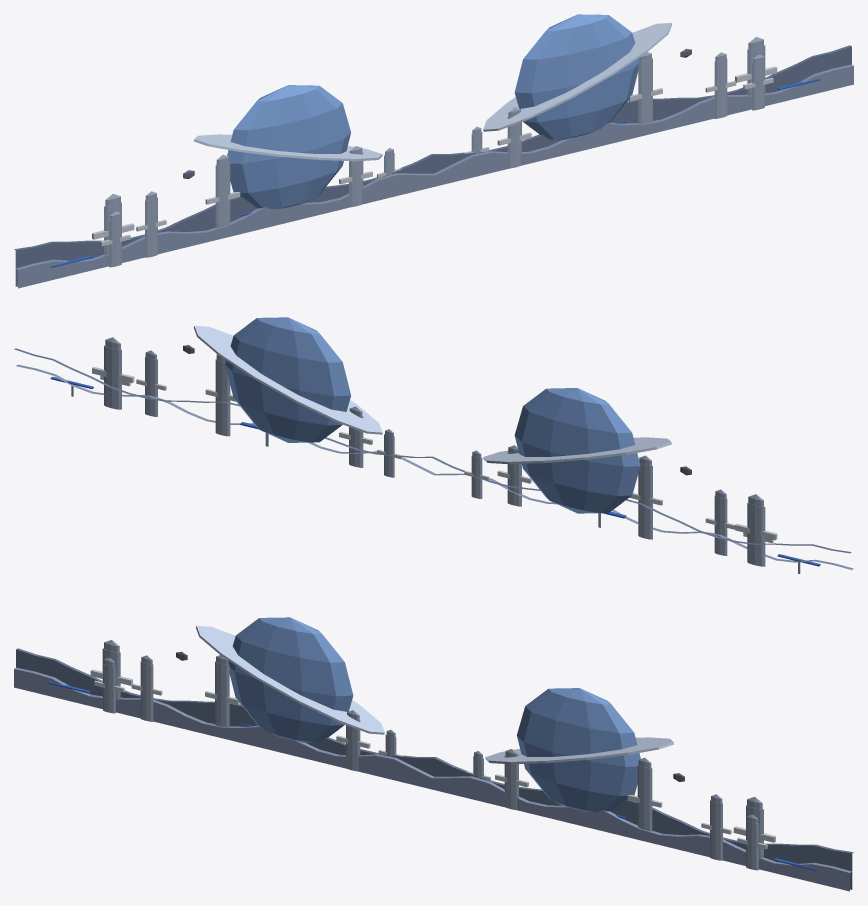
The model's file is backdrop_space.glb.
3 renders of one model, top to bottom at view 1: azimuth 30°, elevation 25°; view 2: azimuth 150°, elevation 25°; view 3: azimuth 330°, elevation 25°, orthographic.
Parts seen in each view (by area): view 1: backdrop_space; view 2: backdrop_space; view 3: backdrop_space.
Part boxes in pixels (bbox=[...]): backdrop_space: bbox=[14, 14, 853, 288]; backdrop_space: bbox=[14, 317, 853, 573]; backdrop_space: bbox=[14, 617, 853, 891].
Bounding box in the file's own units: 260 × 40 × 14.
Materials: 1 (1 with a texture image).
